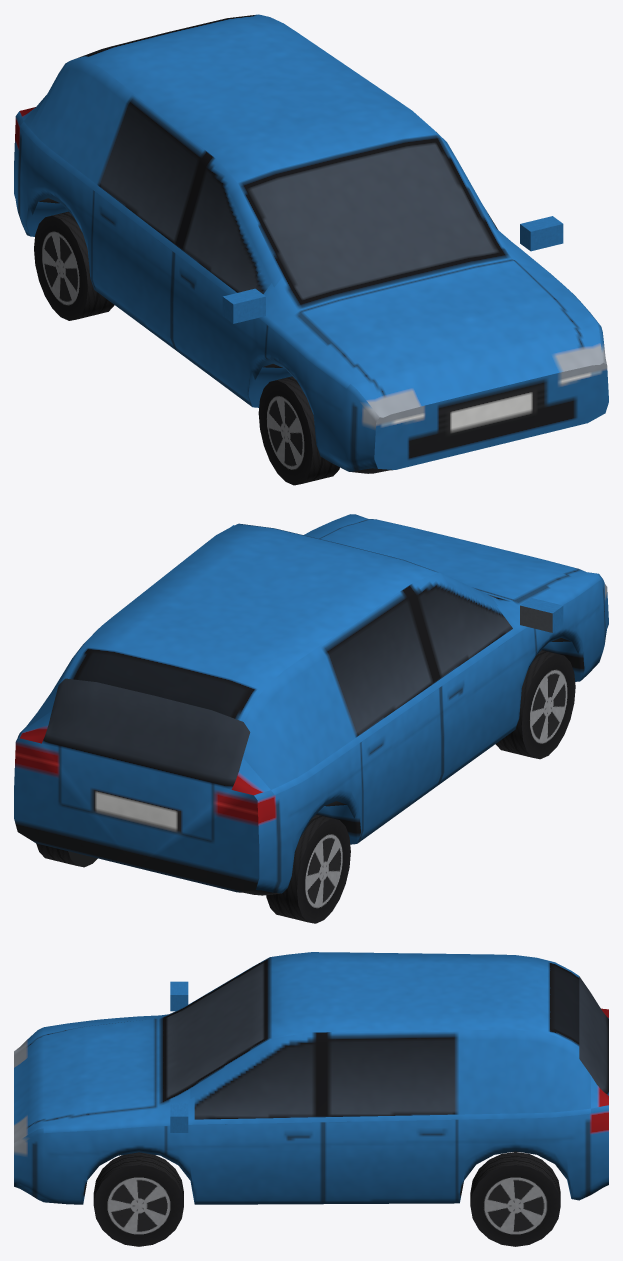
The model's file is SM_Morin_Auto_A_v2_Azzurro.fbx.
3 renders of one model, top to bottom at view 1: azimuth 30°, elevation 25°; view 2: azimuth 150°, elevation 25°; view 3: azimuth 270°, elevation 25°, orthographic. The views are drawn at different scales.
Parts seen in each view (by area): view 1: SM_Morin_Auto_A_v2_Azzurro; view 2: SM_Morin_Auto_A_v2_Azzurro; view 3: SM_Morin_Auto_A_v2_Azzurro.
Part boxes in pixels (box(x1,y1,x2,y2)): SM_Morin_Auto_A_v2_Azzurro: box(14, 14, 608, 485); SM_Morin_Auto_A_v2_Azzurro: box(14, 514, 608, 923); SM_Morin_Auto_A_v2_Azzurro: box(14, 952, 608, 1246).
Bounding box in the file's own units: 212 × 395 × 150.
Materials: 1 (1 with a texture image).
